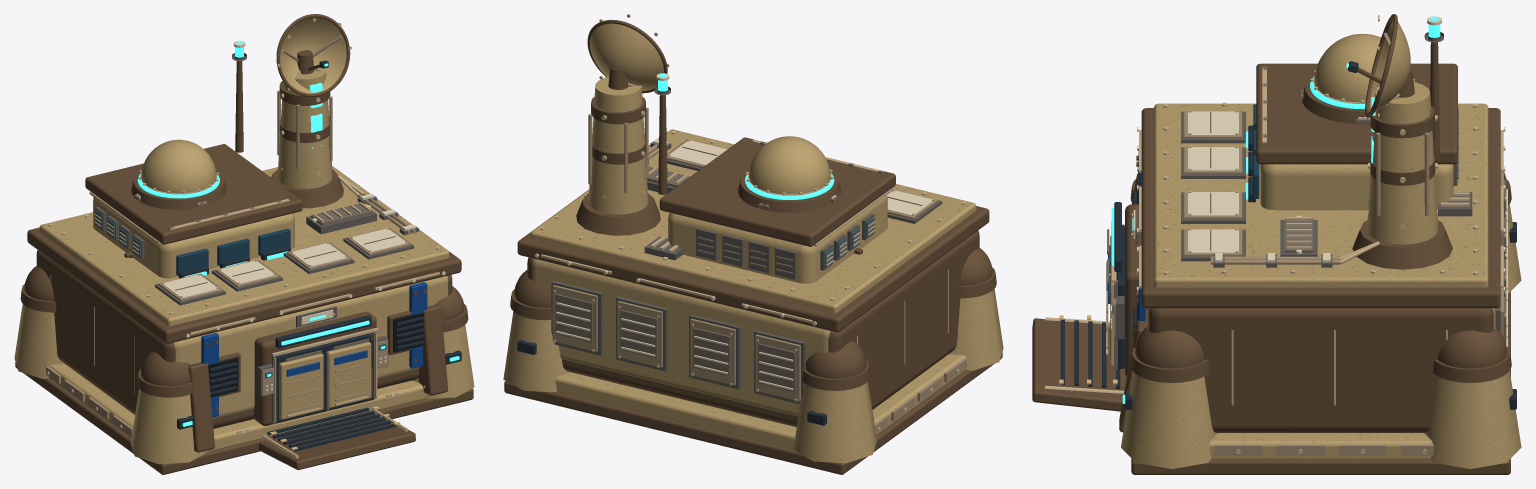
Rendered from headquarters-refined.glb.
The picture shows the model from 3 angles, left to right: view 1: azimuth 30°, elevation 25°; view 2: azimuth 150°, elevation 25°; view 3: azimuth 270°, elevation 25°; orthographic projection. The views are drawn at different scales.
Parts seen in each view (by area): view 1: Atlas_RoofCeramic_5, Atlas_ArmouredHull_2, Atlas_CommandRoof_68, Atlas_Roof_4, Atlas_CeramicHull_3, AtlasRefined_panel, Atlas_CeramicFoundation_1, AtlasRefined_trim, Atlas_CommandLoft_67, AtlasRefined_ceramic, Atlas_CornerFoot_21, Atlas_CommsTower_82 (+33 smaller); view 2: Atlas_RoofCeramic_5, Atlas_ArmouredHull_2, Atlas_CeramicHull_3, Atlas_CommandRoof_68, Atlas_Roof_4, Atlas_CeramicFoundation_1, AtlasRefined_panel, AtlasRefined_frame, AtlasRefined_shadow, Atlas_GroundPlinth_0, Atlas_CommsTower_82, Atlas_CornerFoot_16 (+20 smaller); view 3: Atlas_ArmouredHull_2, Atlas_RoofCeramic_5, Atlas_Roof_4, Atlas_CommandRoof_68, Atlas_CornerFoot_31, Atlas_CornerFoot_26, Atlas_CommsTower_82, AtlasRefined_panel, AtlasRefined_ceramic, Atlas_CommandLoft_67, Atlas_EntryRamp_44, Atlas_GroundPlinth_0 (+21 smaller).
Boxes of the visible parts, x1,y1,x2,y2 form: Atlas_RoofCeramic_5: [39, 166, 449, 325]; Atlas_ArmouredHull_2: [36, 250, 452, 428]; Atlas_CommandRoof_68: [85, 144, 302, 244]; Atlas_Roof_4: [27, 166, 461, 343]; Atlas_CeramicHull_3: [173, 276, 448, 418]; AtlasRefined_panel: [45, 35, 416, 436]; Atlas_CeramicFoundation_1: [49, 364, 425, 451]; AtlasRefined_trim: [46, 18, 440, 458]; Atlas_CommandLoft_67: [93, 197, 294, 278]; AtlasRefined_ceramic: [136, 40, 445, 433]; Atlas_CornerFoot_21: [130, 389, 207, 464]; Atlas_CommsTower_82: [277, 70, 332, 188]; Atlas_RoofCeramic_5: [530, 129, 976, 312]; Atlas_ArmouredHull_2: [527, 230, 979, 427]; Atlas_CeramicHull_3: [532, 258, 830, 416]; Atlas_CommandRoof_68: [659, 137, 895, 246]; Atlas_Roof_4: [517, 138, 989, 332]; Atlas_CeramicFoundation_1: [555, 354, 966, 449]; AtlasRefined_panel: [552, 72, 966, 433]; AtlasRefined_frame: [551, 86, 942, 404]; AtlasRefined_shadow: [555, 141, 922, 392]; Atlas_GroundPlinth_0: [504, 352, 1002, 474]; Atlas_CommsTower_82: [588, 77, 648, 214]; Atlas_CornerFoot_16: [793, 381, 876, 463]; Atlas_ArmouredHull_2: [1148, 308, 1493, 432]; Atlas_RoofCeramic_5: [1154, 103, 1488, 287]; Atlas_Roof_4: [1141, 108, 1500, 308]; Atlas_CommandRoof_68: [1256, 63, 1457, 164]; Atlas_CornerFoot_31: [1121, 371, 1217, 468]; Atlas_CornerFoot_26: [1424, 371, 1521, 468]; Atlas_CommsTower_82: [1367, 82, 1438, 244]; AtlasRefined_panel: [1106, 32, 1503, 455]; AtlasRefined_ceramic: [1111, 16, 1507, 346]; Atlas_CommandLoft_67: [1260, 164, 1453, 210]; Atlas_EntryRamp_44: [1032, 318, 1126, 411]; Atlas_GroundPlinth_0: [1131, 292, 1510, 474].
Size of the model in its own units: 3.6 by 3.35 by 3.54.
15 materials, 2 textured.
